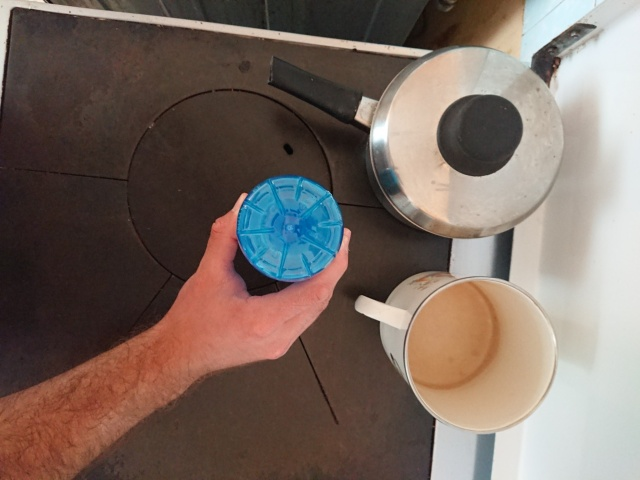Vindi Iso Sport Forest Strawberries 500mL: (233, 174, 346, 285)
